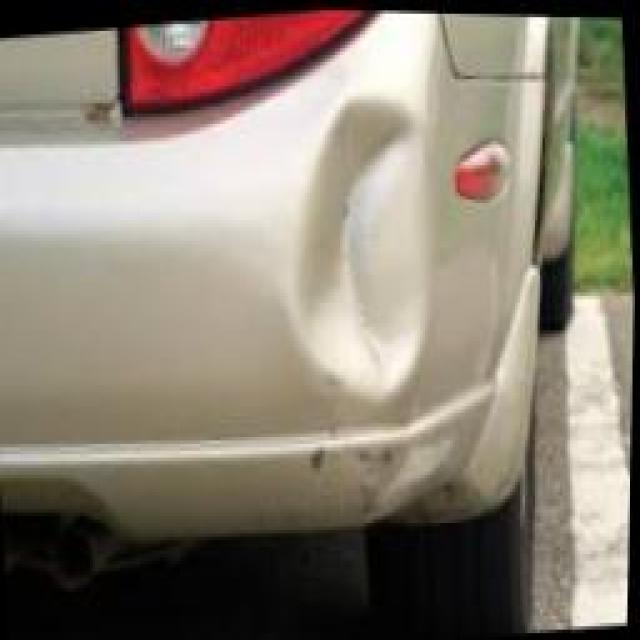Bumper: (0, 38, 639, 552)
